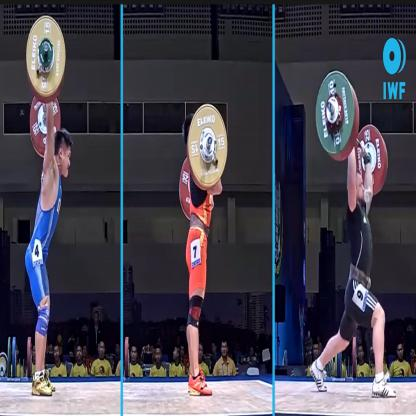Barbell: (183, 100, 229, 198), (315, 68, 362, 161), (24, 11, 67, 100)
